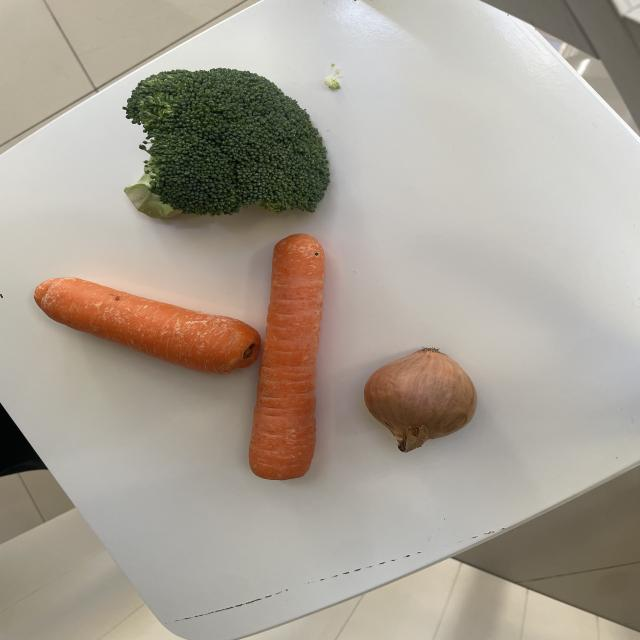Broccoli: (121, 66, 332, 222)
Carrot: (32, 274, 263, 376), (248, 233, 329, 480)
Onion: (362, 344, 478, 452)
